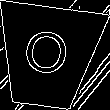O_S: (22, 28, 73, 85)
